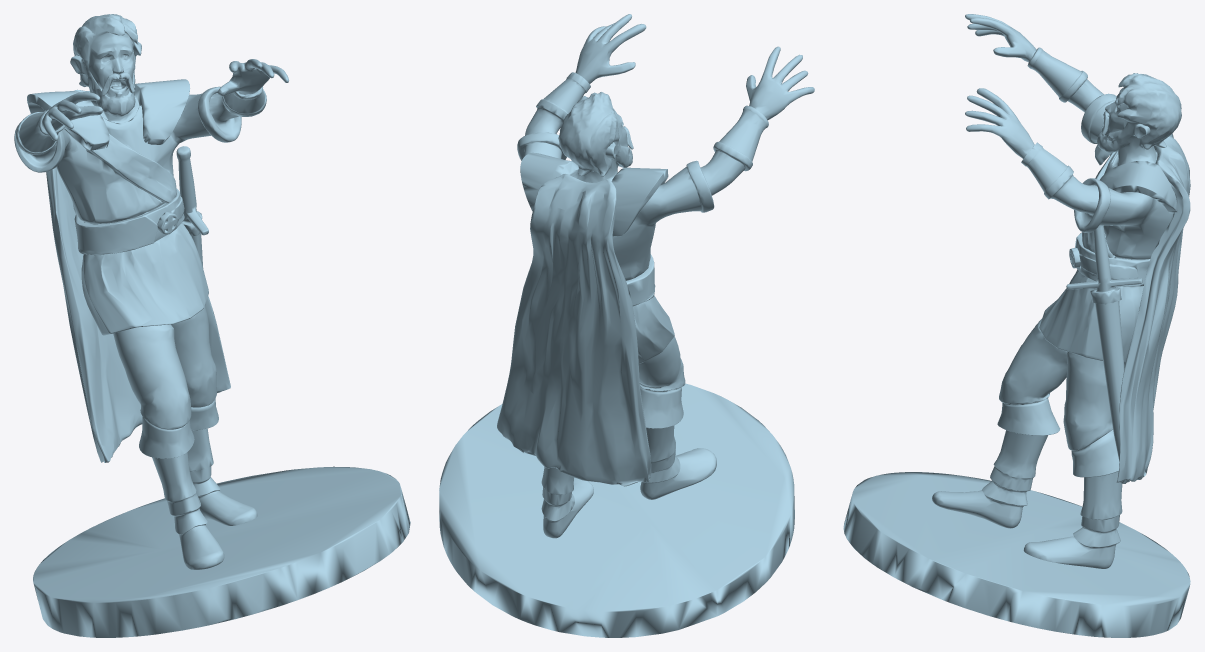
File: ghost-male.glb
The picture shows the model from 3 angles, left to right: view 1: azimuth 30°, elevation 25°; view 2: azimuth 150°, elevation 25°; view 3: azimuth 270°, elevation 25°; orthographic projection. The views are drawn at different scales.
Parts seen in each view (by area): view 1: ghost-male; view 2: ghost-male; view 3: ghost-male.
Boxes of the visible parts, x1,y1,x2,y2 form: ghost-male: (14,14,410,637); ghost-male: (439,14,814,637); ghost-male: (843,14,1190,637).
Size of the model in its own units: 27.25 by 42.26 by 25.04.
